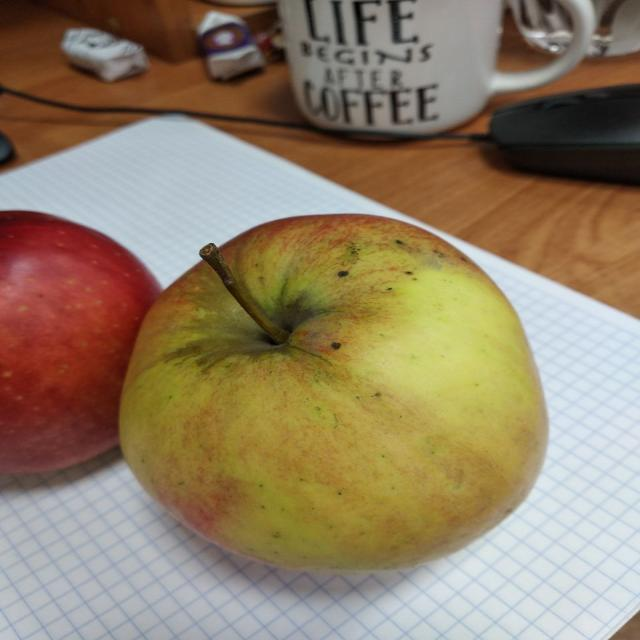Fresh Apple: (125, 216, 558, 586), (0, 215, 131, 478)
